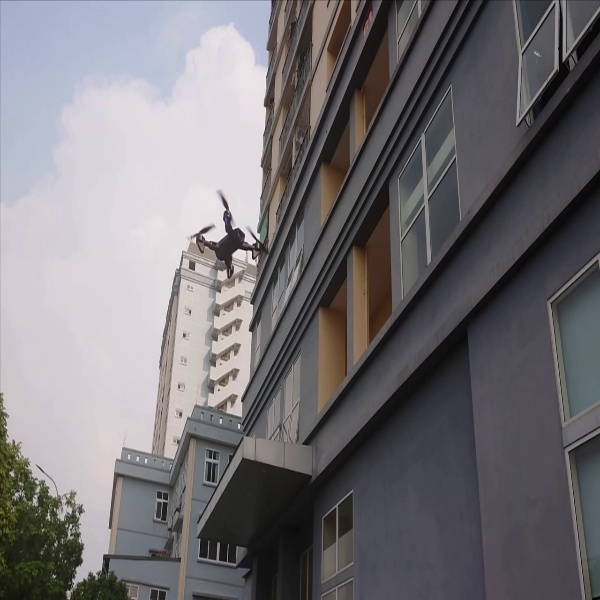drone: (183, 182, 273, 281)
